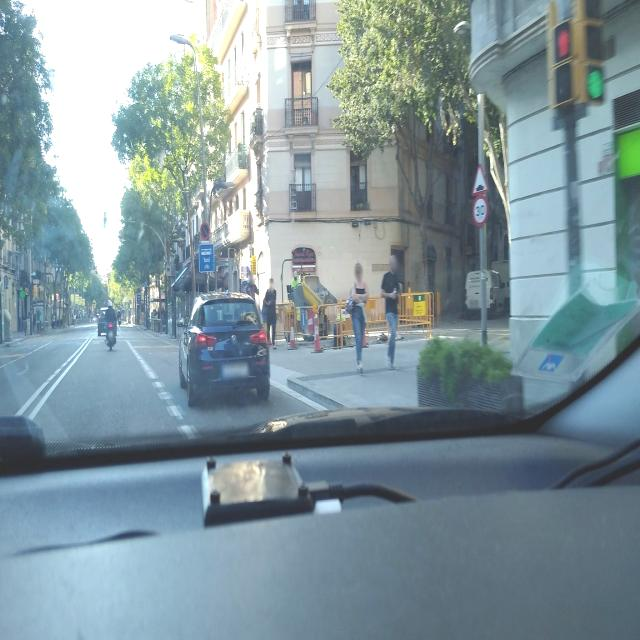bike: (105, 324, 118, 350)
car: (178, 288, 271, 408), (464, 269, 509, 318), (97, 306, 116, 336)
